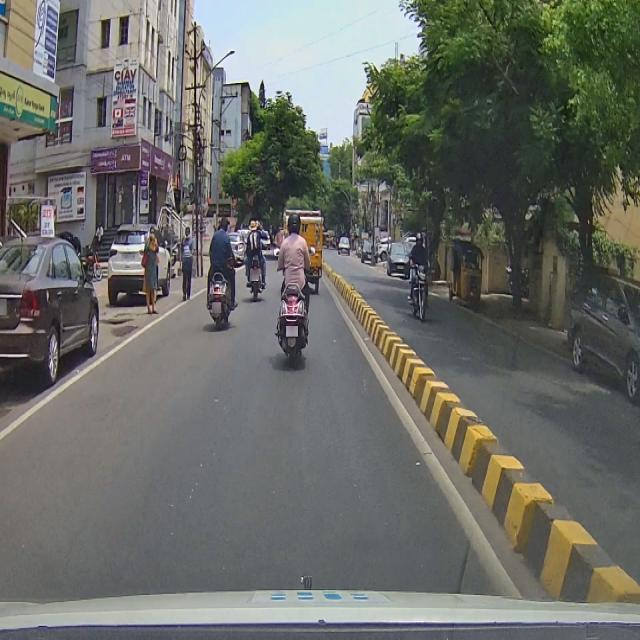car ahead at: (0, 226, 111, 391)
motorcycle ahead at: (274, 282, 314, 360), (206, 270, 243, 332)
person ahead at: (138, 222, 164, 318)
